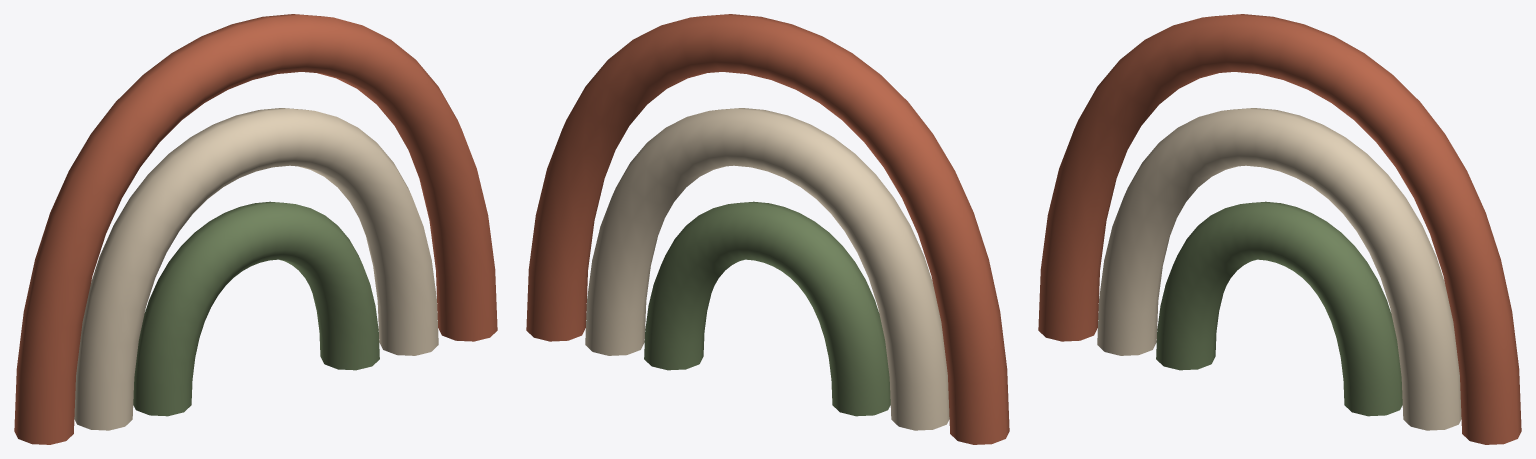
File: i_figure_2.glb
3 views of the same model, side by side, from view 1: azimuth 30°, elevation 25°; view 2: azimuth 150°, elevation 25°; view 3: azimuth 330°, elevation 25° (orthographic).
Visible parts, largest first — view 1: o, o.001, o.002; view 2: o, o.001, o.002; view 3: o, o.001, o.002.
Part boxes in pixels (x1=…): o: x1=14, y1=14, x2=497, y2=444; o.001: x1=74, y1=108, x2=438, y2=430; o.002: x1=133, y1=201, x2=379, y2=416; o: x1=526, y1=14, x2=1009, y2=444; o.001: x1=585, y1=108, x2=949, y2=430; o.002: x1=644, y1=201, x2=890, y2=416; o: x1=1038, y1=14, x2=1521, y2=444; o.001: x1=1097, y1=108, x2=1461, y2=430; o.002: x1=1156, y1=201, x2=1402, y2=416.
Size of the model in its own units: 0.202 by 0.1458 by 0.0209.
